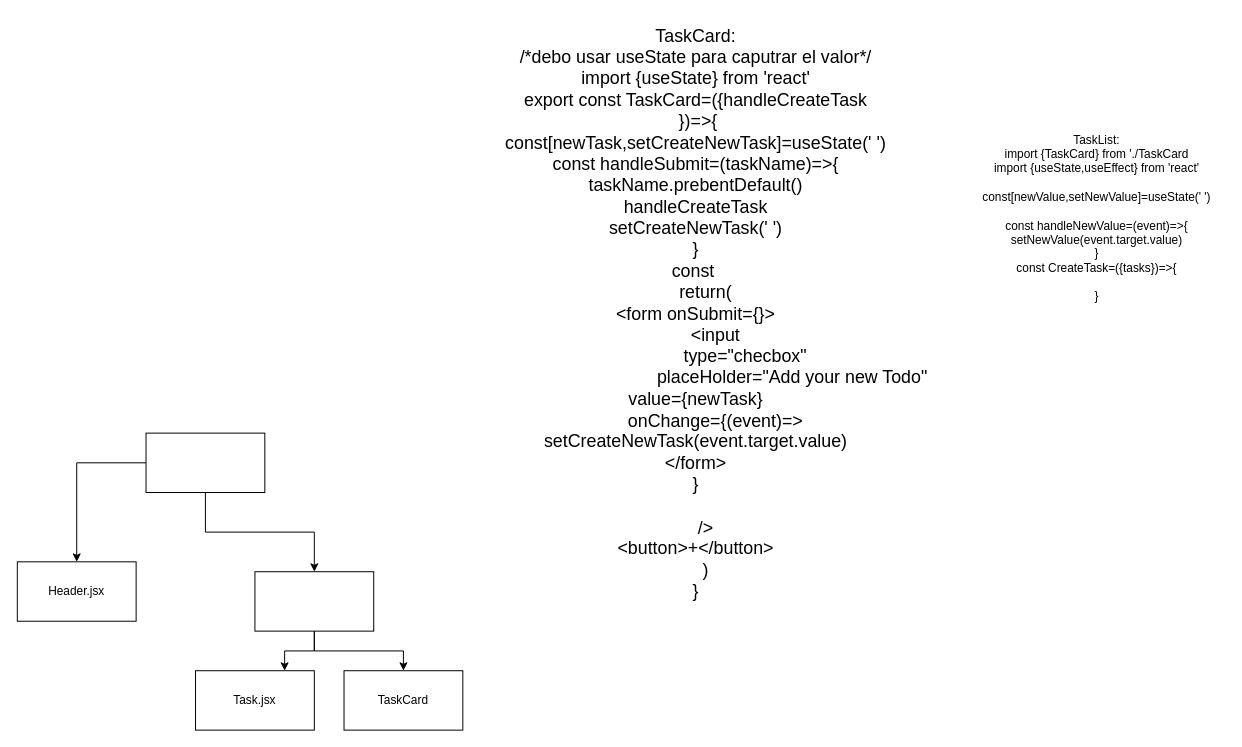
Image size: 1242x747. Some labels were removed from this diagram. The shapes that lost their labels are listed below. From the top down, each one's centre as x and y in pixels, then its label:
the point at 205,462: App.jsx
the point at 314,601: TaskList.jsx
